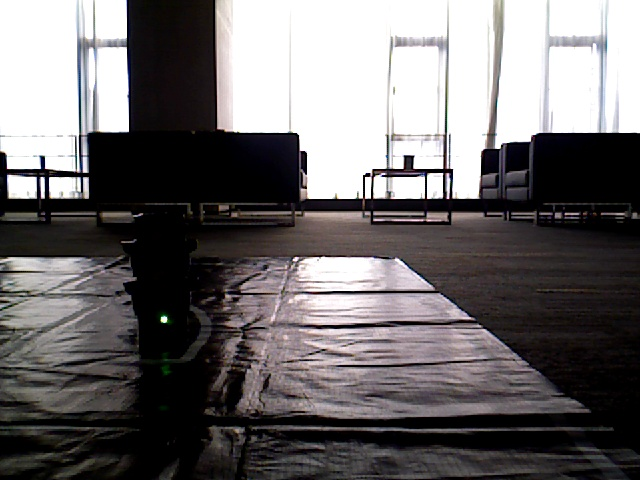green: (139, 211, 190, 339)
